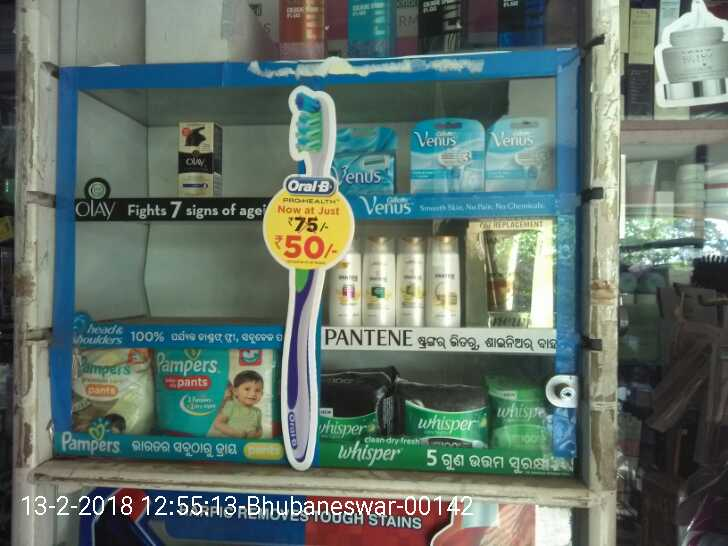venus: (485, 116, 557, 190), (412, 117, 481, 191), (333, 127, 396, 189)
